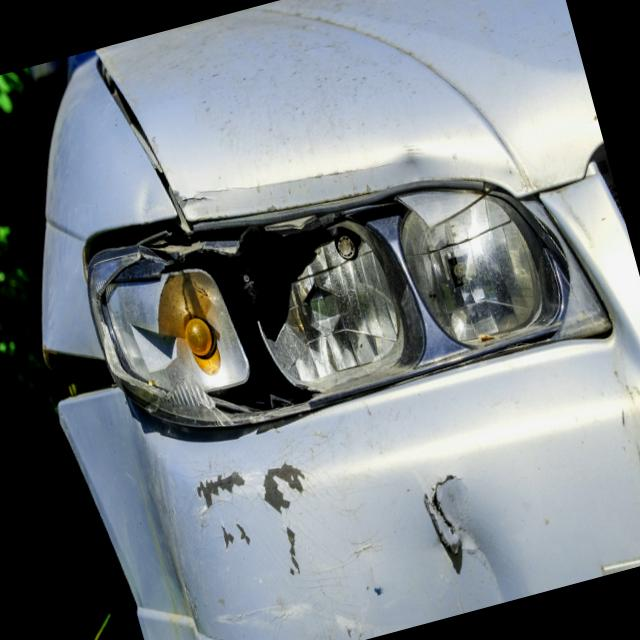Dechirure: (401, 444, 511, 572), (31, 326, 126, 427)
Phare abime: (73, 118, 605, 491)
Rayure: (190, 433, 402, 640)
